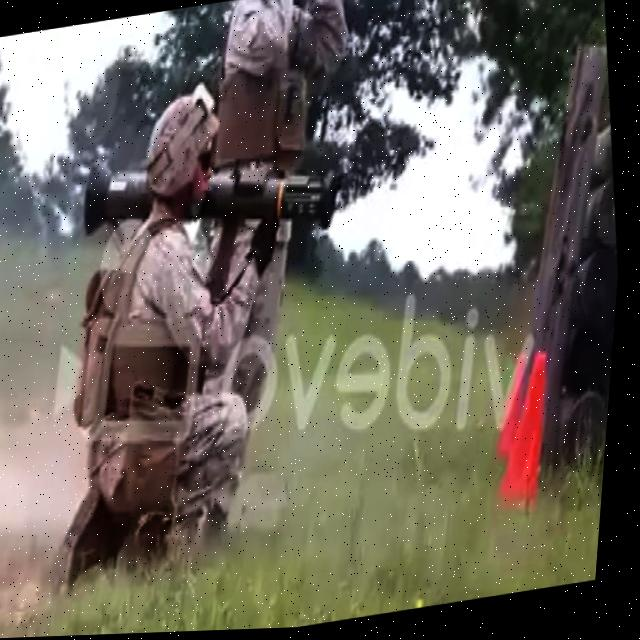rocket: (74, 123, 357, 266)
